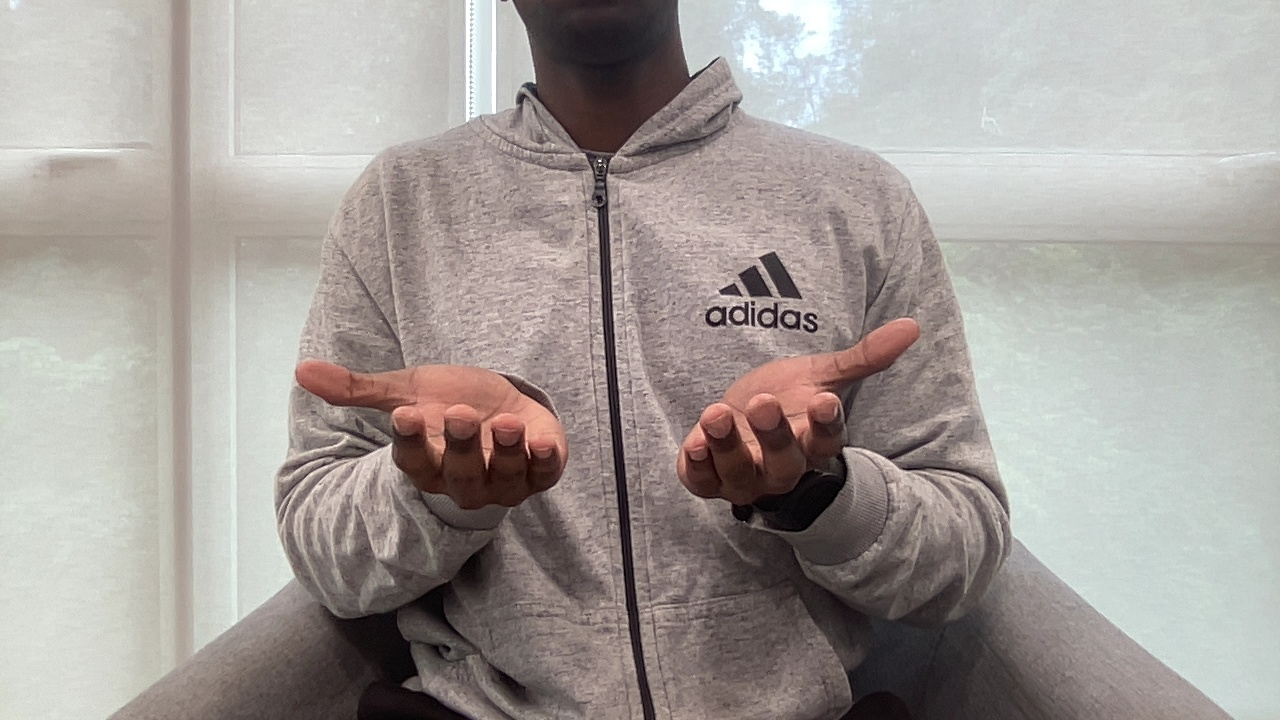give: (288, 308, 922, 518)
